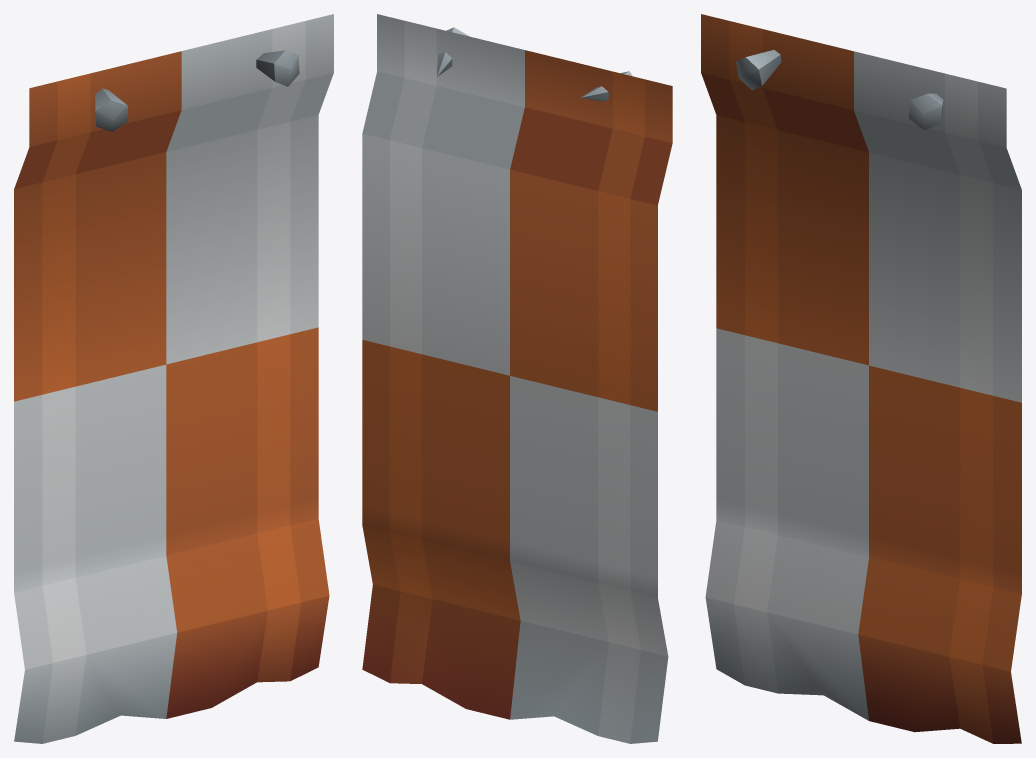
File: banner_patternA_brown.gltf
The picture shows the model from 3 angles, left to right: view 1: azimuth 30°, elevation 25°; view 2: azimuth 150°, elevation 25°; view 3: azimuth 330°, elevation 25°; orthographic projection. The views are drawn at different scales.
Visible parts, largest first — view 1: banner_patternA_brown; view 2: banner_patternA_brown; view 3: banner_patternA_brown.
Part boxes in pixels (left/top/right/bottom): banner_patternA_brown: left=14, top=14, right=333, bottom=743; banner_patternA_brown: left=362, top=14, right=672, bottom=743; banner_patternA_brown: left=701, top=14, right=1021, bottom=743.
Size of the model in its own units: 1.5 by 3.2 by 0.3119.
1 material, 1 textured.
